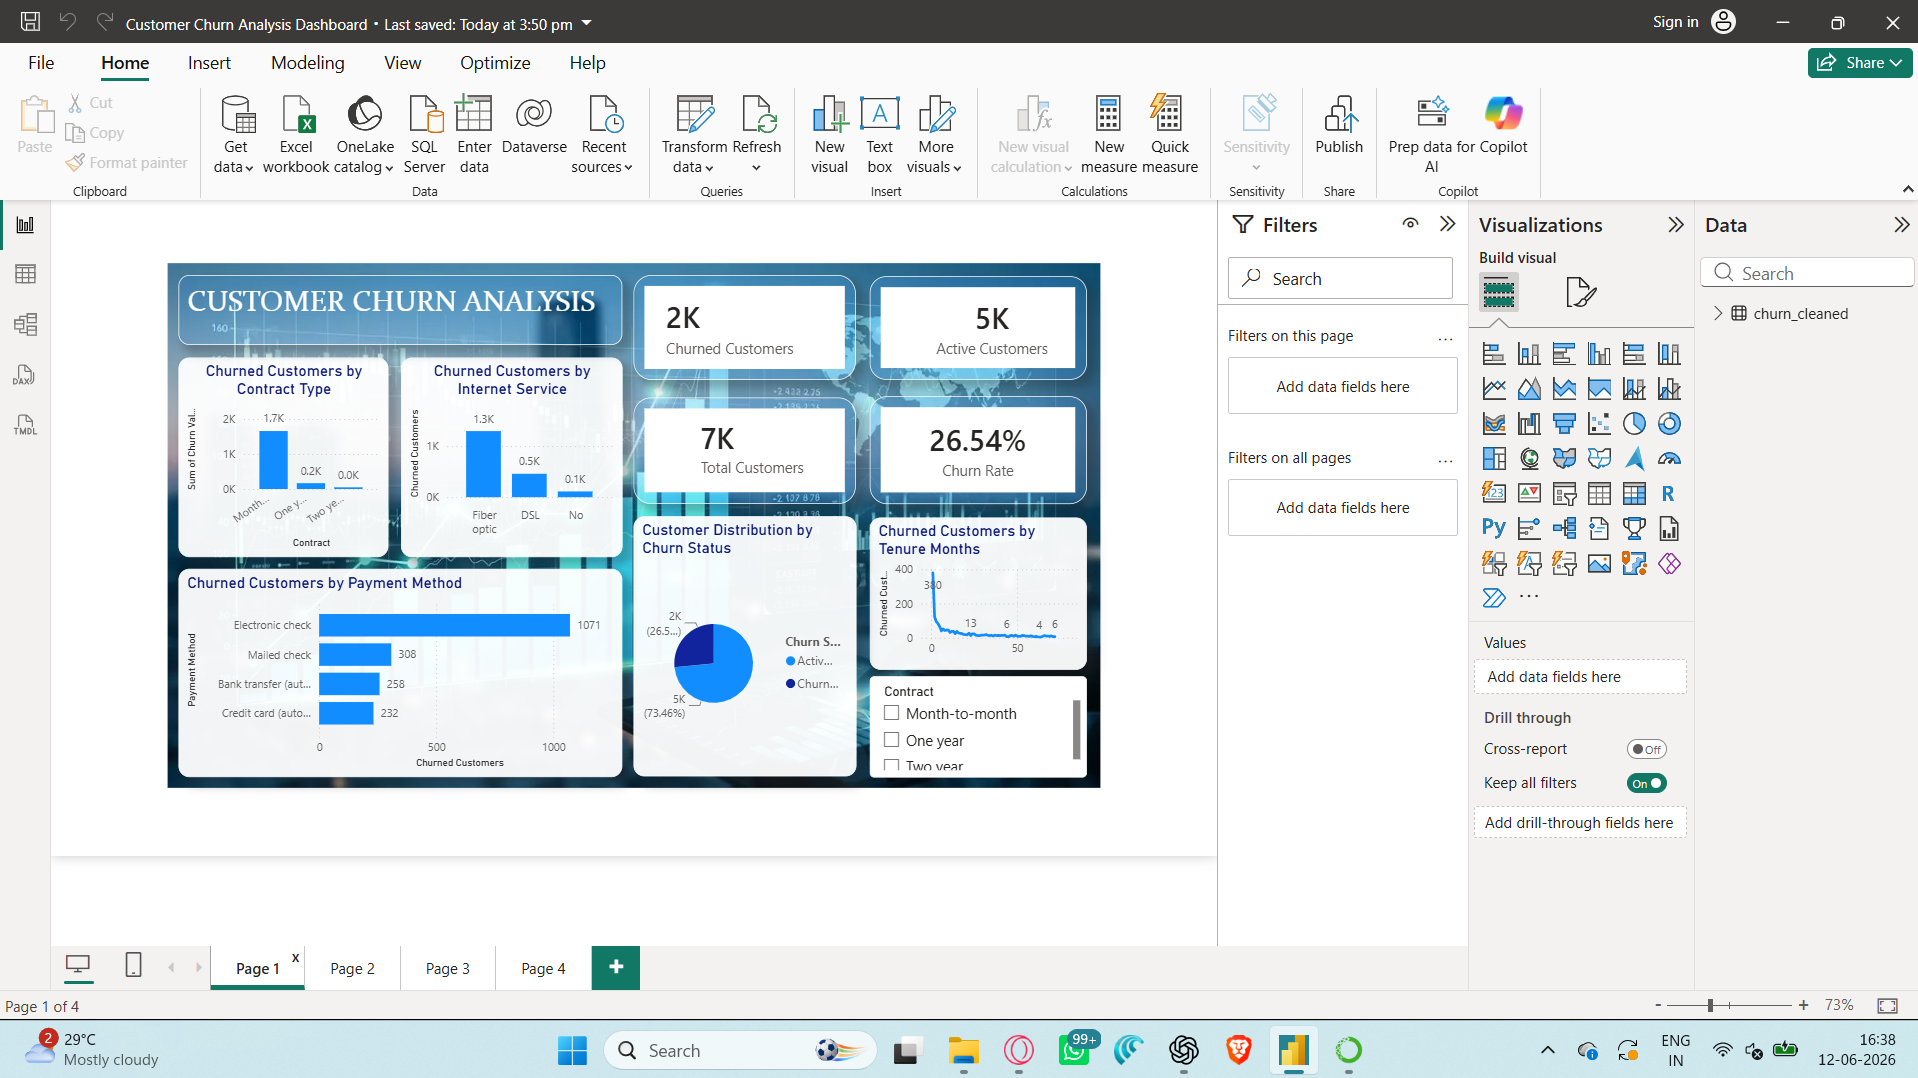

The dashboard page shown, as its layout file describes it:
{"tool":"powerbi","page":{"name":"Page 1","canvas":[1280,720],"ordinal":0},"visuals":[{"type":"cardVisual","fields":{"Data":["churn_cleaned.Total Customers"]},"box":[639.5,216.8,244.3,116.6],"z":0},{"type":"cardVisual","fields":{"Data":["churn_cleaned.Active Customers"]},"box":[898.8,83.7,238.8,113.9],"z":1000},{"type":"cardVisual","fields":{"Data":["churn_cleaned.Churned Customers"]},"box":[639.5,82.3,244.3,115.3],"z":2000},{"type":"cardVisual","fields":{"Data":["churn_cleaned.Churn Rate %"]},"box":[898.8,215.4,238.8,118],"z":3000},{"type":"clusteredColumnChart","title":"Churned Customers by Contract Type","fields":{"Category":["churn_cleaned.Contract"],"Y":["Sum(churn_cleaned.Churn Value)"]},"box":[140,172.9,230.5,219.6],"z":4000},{"type":"clusteredColumnChart","fields":{"Category":["churn_cleaned.Internet Service"],"Y":["churn_cleaned.Churned Customers"]},"box":[384.2,172.9,242.9,219.6],"z":5000},{"type":"textbox","box":[140,82.3,487.1,76.8],"z":6000},{"type":"clusteredBarChart","fields":{"Category":["churn_cleaned.Payment Method"],"Y":["churn_cleaned.Churned Customers"]},"box":[140,404.8,487.1,229.2],"z":7000},{"type":"lineChart","fields":{"Category":["churn_cleaned.Tenure Months"],"Y":["churn_cleaned.Churned Customers"]},"box":[898.8,348.5,238.8,167.4],"z":8000},{"type":"pieChart","title":"Customer Distribution by Churn Status","fields":{"Y":["Sum(churn_cleaned.Count)"],"Category":["churn_cleaned.Churn Status"]},"box":[639.1,347.8,244.9,285.5],"z":9000},{"type":"slicer","fields":{"Values":["churn_cleaned.Contract"]},"box":[898.8,522.8,238.8,111.1],"z":10000}]}

Visuals, with their boxes on the page's 1280x720 design canvas (x1, y1, x2, y2). These are canvas units, not pixel positions in the 1918x1078 screenshot, which may show the page scaled, cropped or inside an application window:
cardVisual - churn_cleaned.Total Customers: detection(640, 217, 884, 333)
cardVisual - churn_cleaned.Active Customers: detection(899, 84, 1138, 198)
cardVisual - churn_cleaned.Churned Customers: detection(640, 82, 884, 198)
cardVisual - churn_cleaned.Churn Rate %: detection(899, 215, 1138, 333)
"Churned Customers by Contract Type" clusteredColumnChart: detection(140, 173, 370, 392)
clusteredColumnChart - churn_cleaned.Internet Service x churn_cleaned.Churned Customers: detection(384, 173, 627, 392)
textbox: detection(140, 82, 627, 159)
clusteredBarChart - churn_cleaned.Payment Method x churn_cleaned.Churned Customers: detection(140, 405, 627, 634)
lineChart - churn_cleaned.Tenure Months x churn_cleaned.Churned Customers: detection(899, 348, 1138, 516)
"Customer Distribution by Churn Status" pieChart: detection(639, 348, 884, 633)
slicer - churn_cleaned.Contract: detection(899, 523, 1138, 634)
